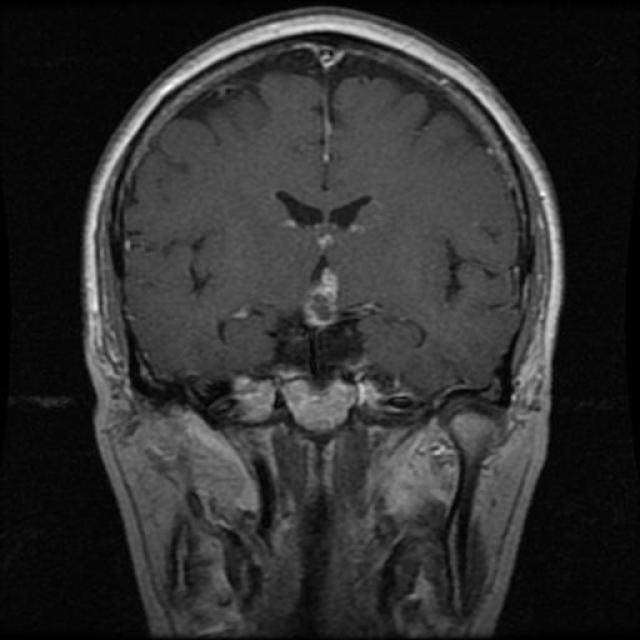pituitary: (228, 270, 408, 430)
